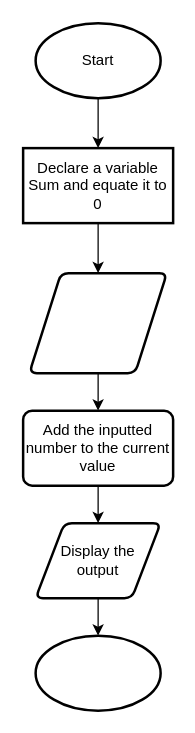
This 195x733 diagram has some shape labels left out. Each missing label, with the box of its shape:
Get a value from the user: (28, 271, 168, 374)
Stop: (34, 634, 161, 711)
